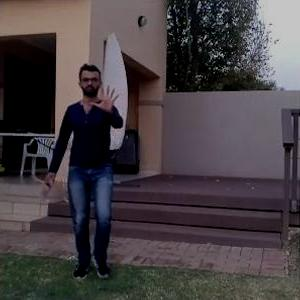follow_hand: (87, 75, 125, 116)
